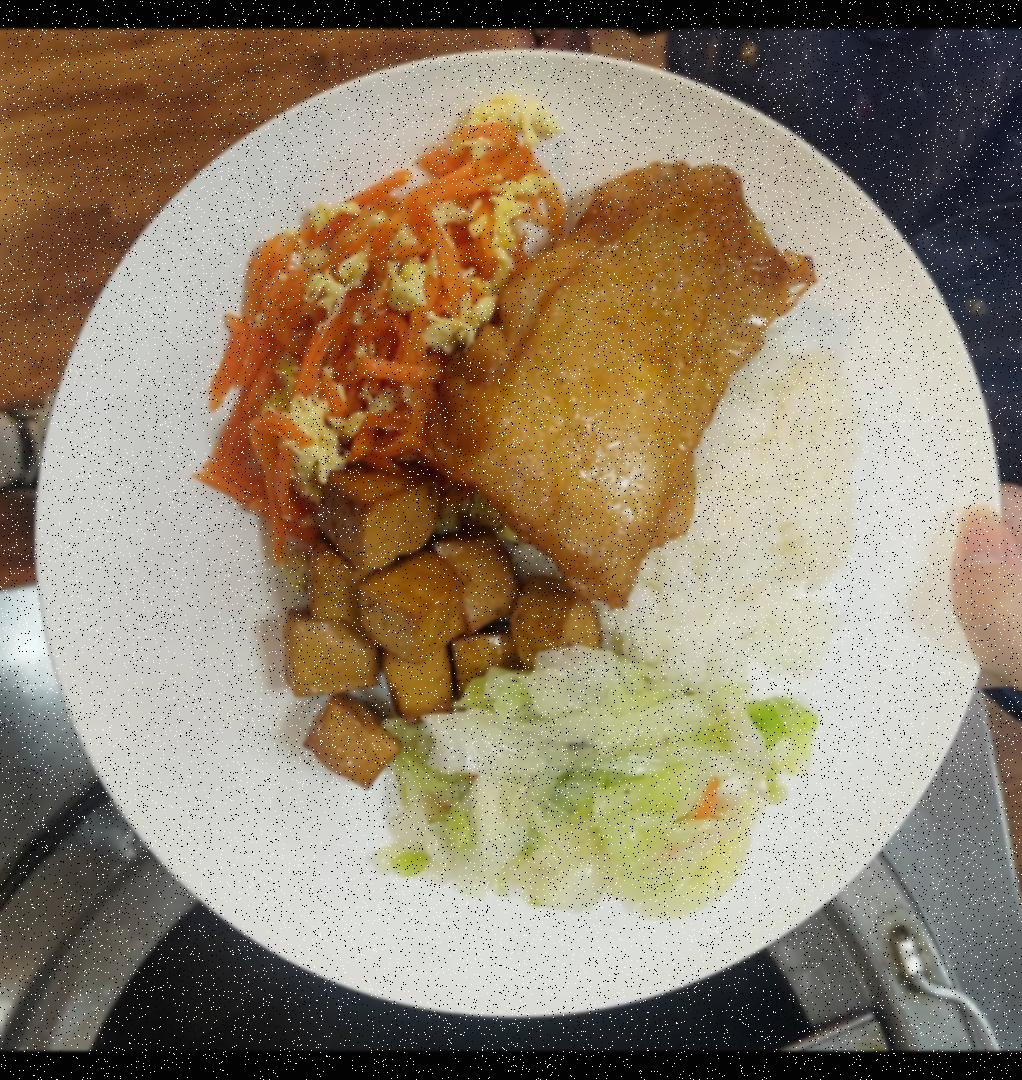grilled chicken leg steak: (437, 136, 822, 610)
plate: (45, 57, 1016, 1035)
side dish: (191, 102, 563, 525), (394, 657, 820, 913), (271, 475, 601, 789)
white rice: (610, 332, 873, 701)
